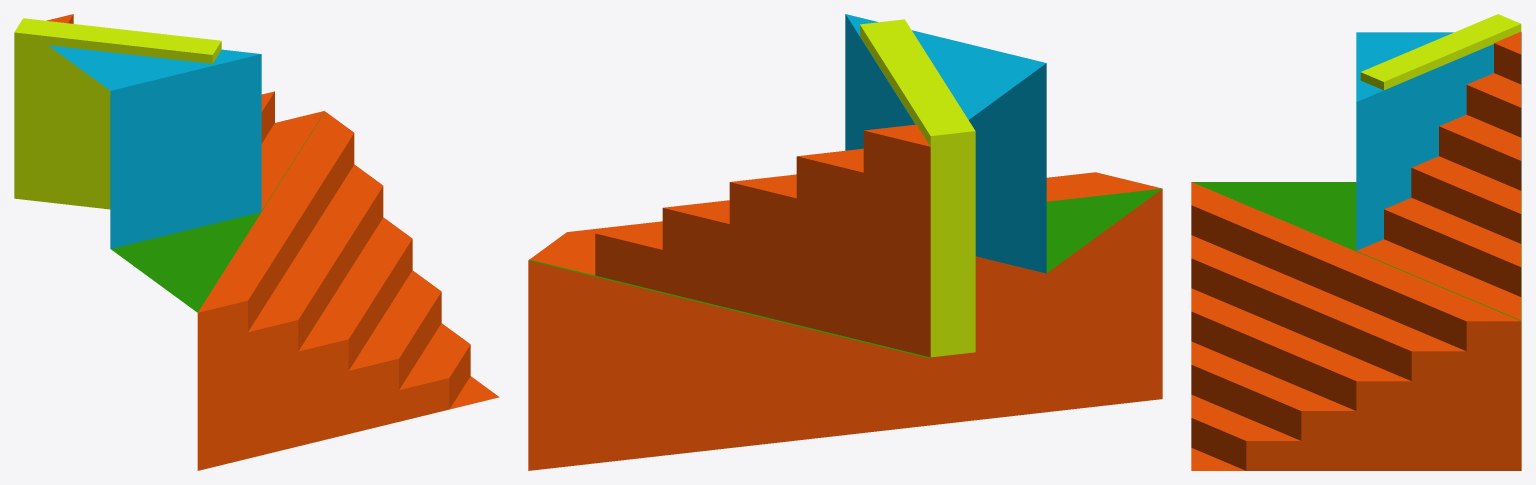
3 views of the same model, side by side, from view 1: azimuth 30°, elevation 25°; view 2: azimuth 150°, elevation 25°; view 3: azimuth 270°, elevation 25° (orthographic). The views are drawn at different scales.
Visible parts, largest first — view 1: T_27_e_0; view 2: T_27_e_0; view 3: T_27_e_0.
Boxes of the visible parts, x1,y1,x2,y2 form: T_27_e_0: (14, 14, 499, 470); T_27_e_0: (528, 14, 1162, 470); T_27_e_0: (1191, 14, 1521, 470).
Size of the model in its own units: 107 by 103 by 99.81.
